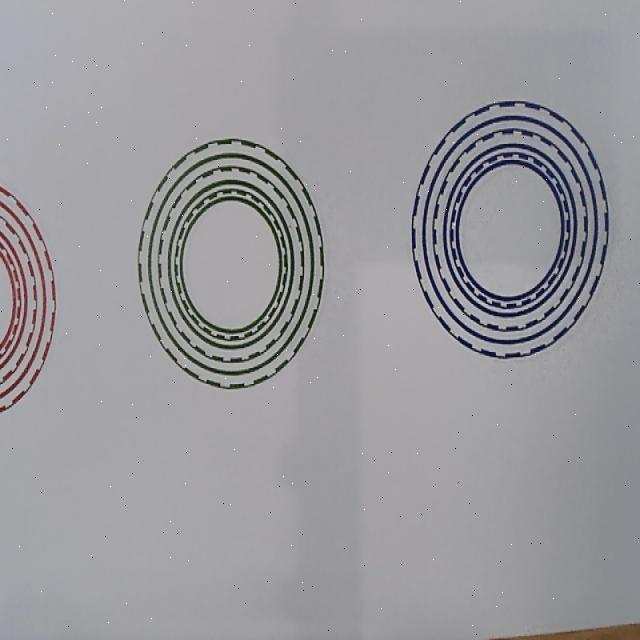b: (411, 99, 609, 359)
g: (137, 138, 325, 389)
